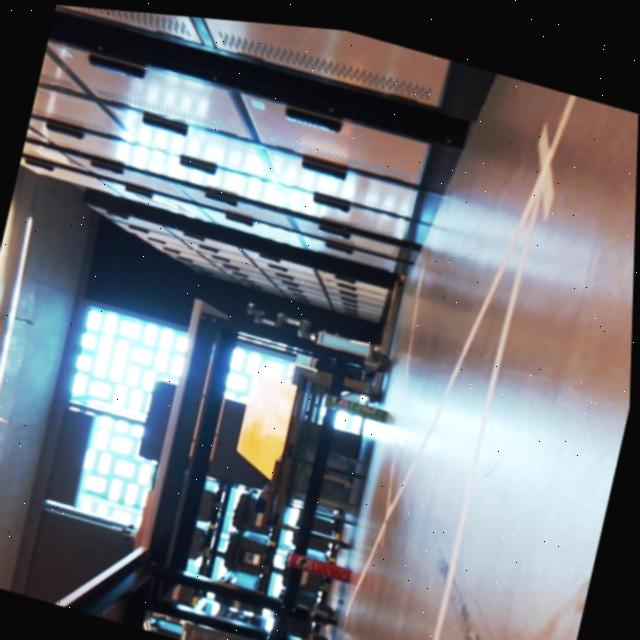greenpringles: (314, 376, 404, 429)
redpringles: (284, 541, 356, 586)
